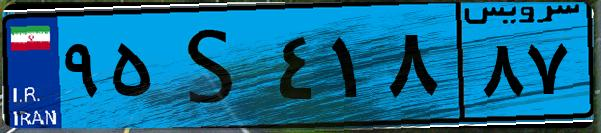1: (330, 28, 385, 110)
4: (270, 28, 330, 110)
5: (110, 28, 158, 98)
7: (525, 38, 570, 115)
8: (385, 28, 445, 110), (475, 38, 525, 113)
9: (57, 26, 110, 100)
S: (158, 12, 270, 120)
